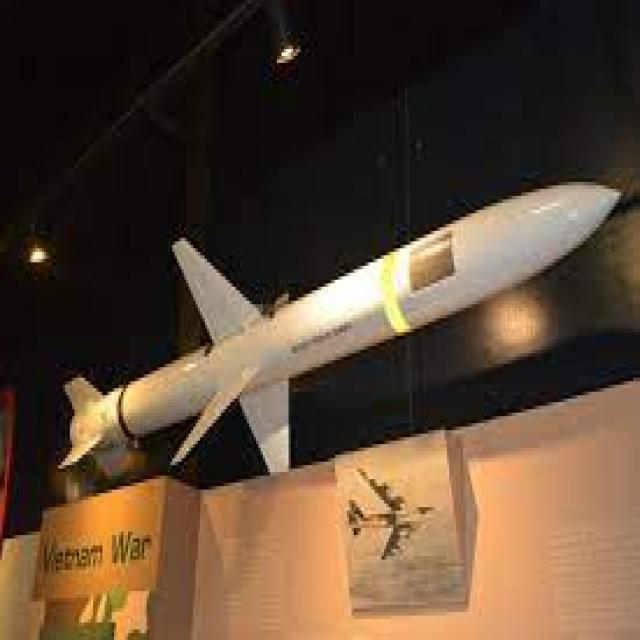missile: (59, 177, 622, 486)
